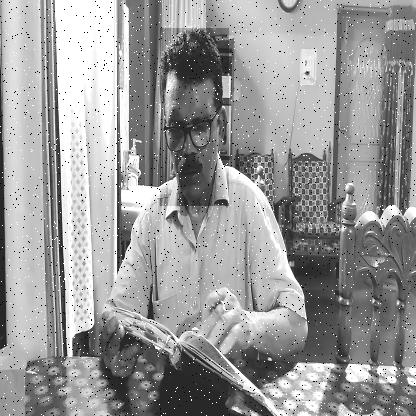Normal: (160, 28, 229, 206)
